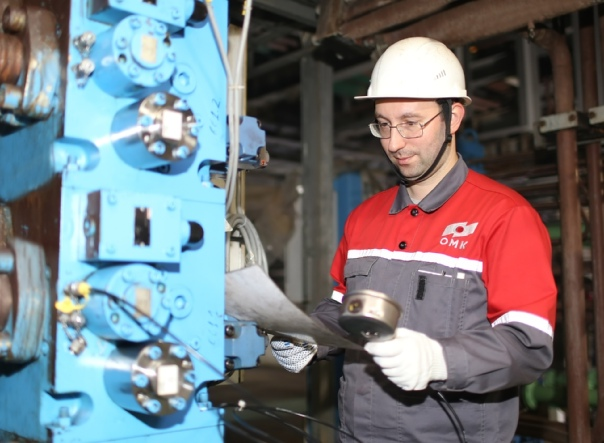person: (270, 36, 557, 442)
